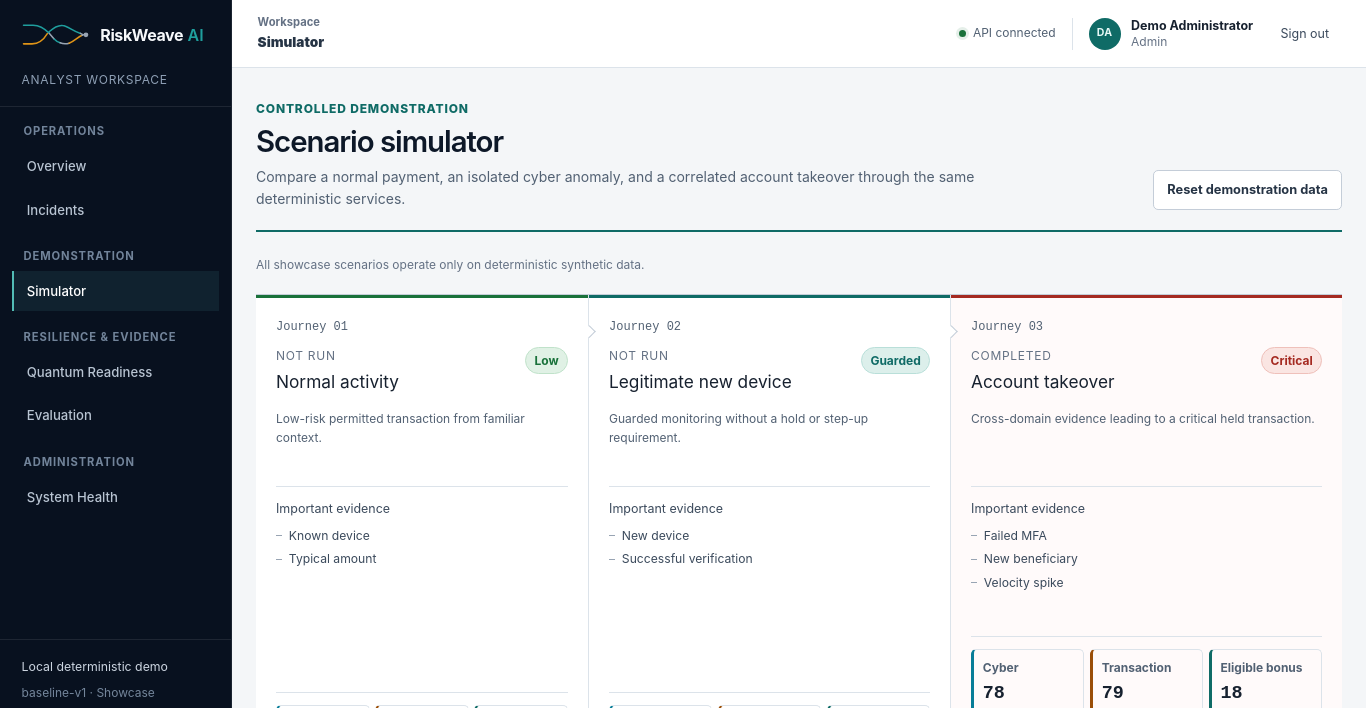
Test: RiskWeave authenticated product › traps keyboard focus inside confirmations and restores the invoking control
Click the button with aria-label "Restore exact baseline".
click(1248, 190)  # box [1153,170,1342,210]
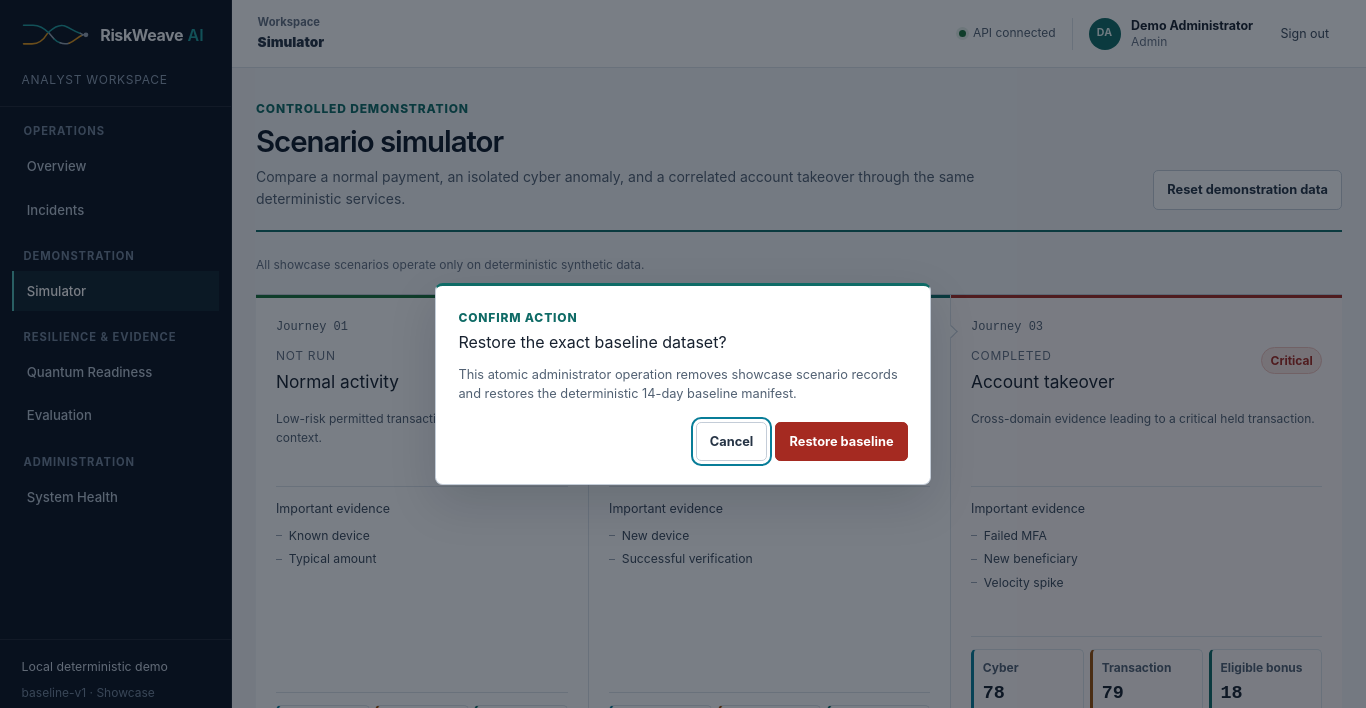
Press Shift+Tab
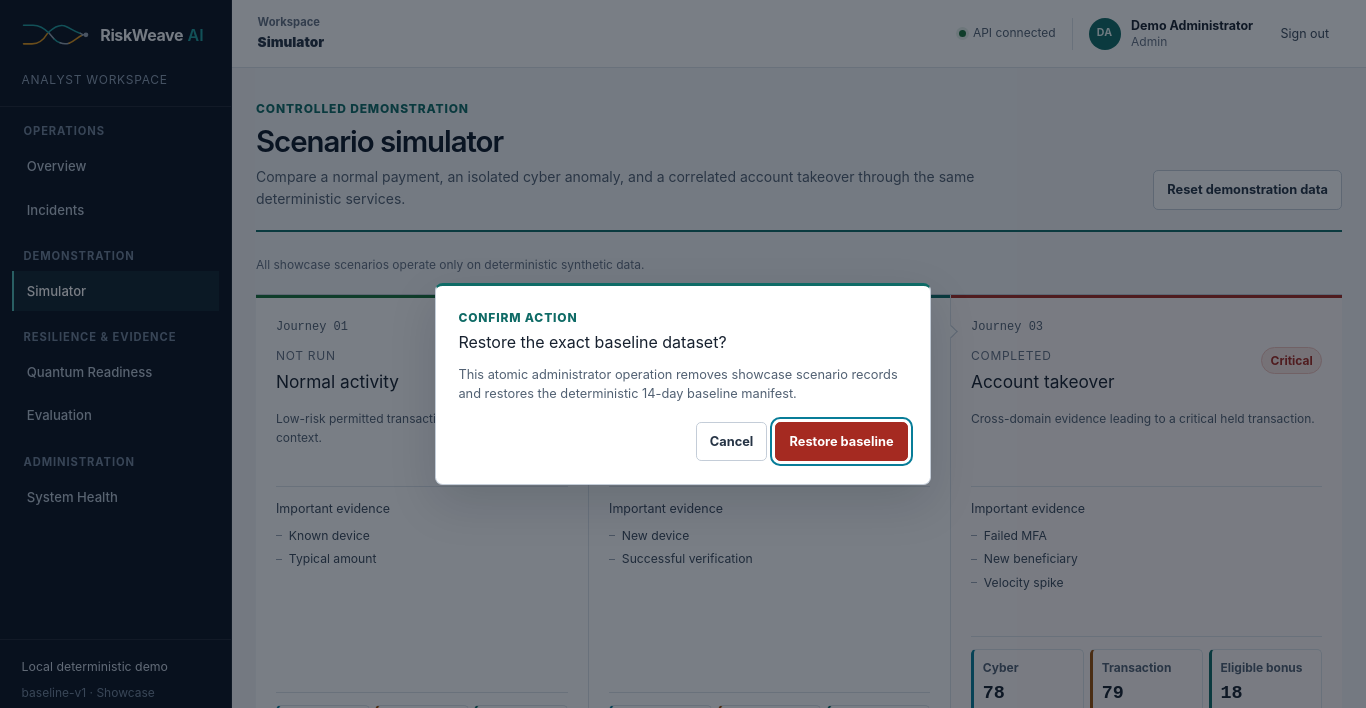
Press Tab
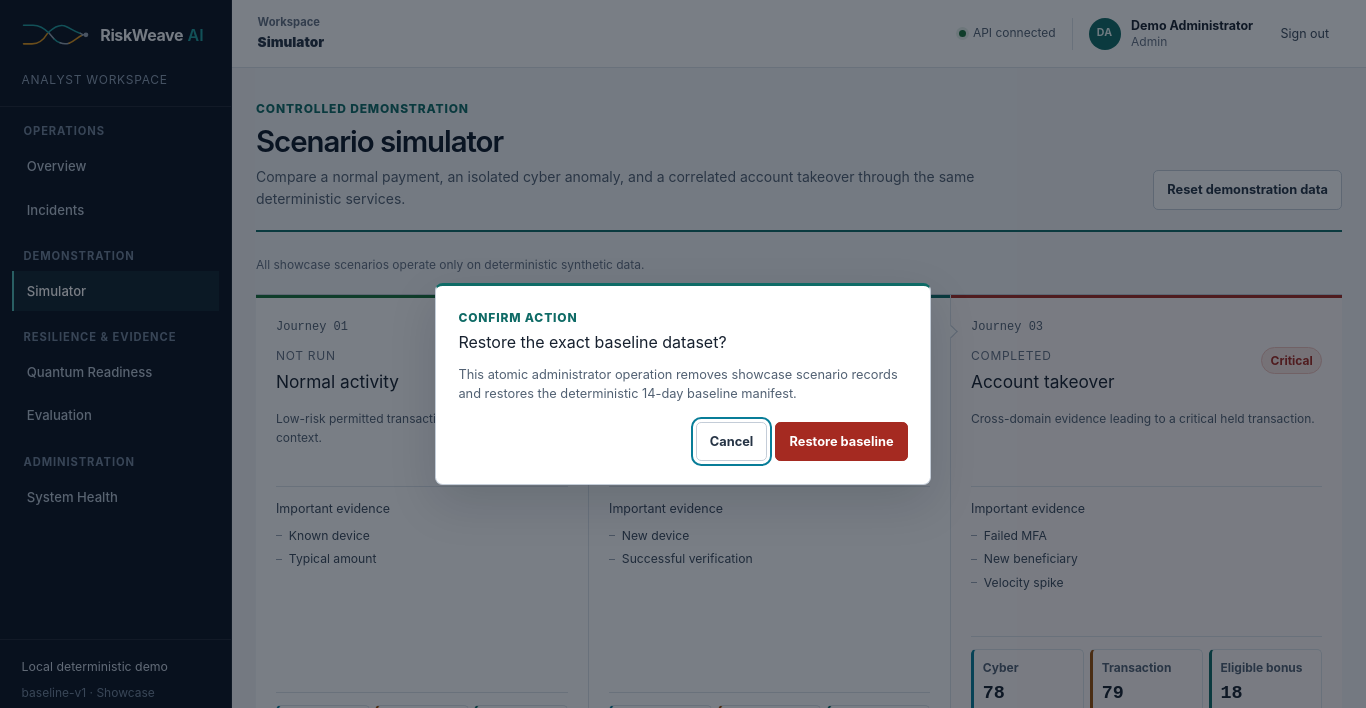
Press Escape
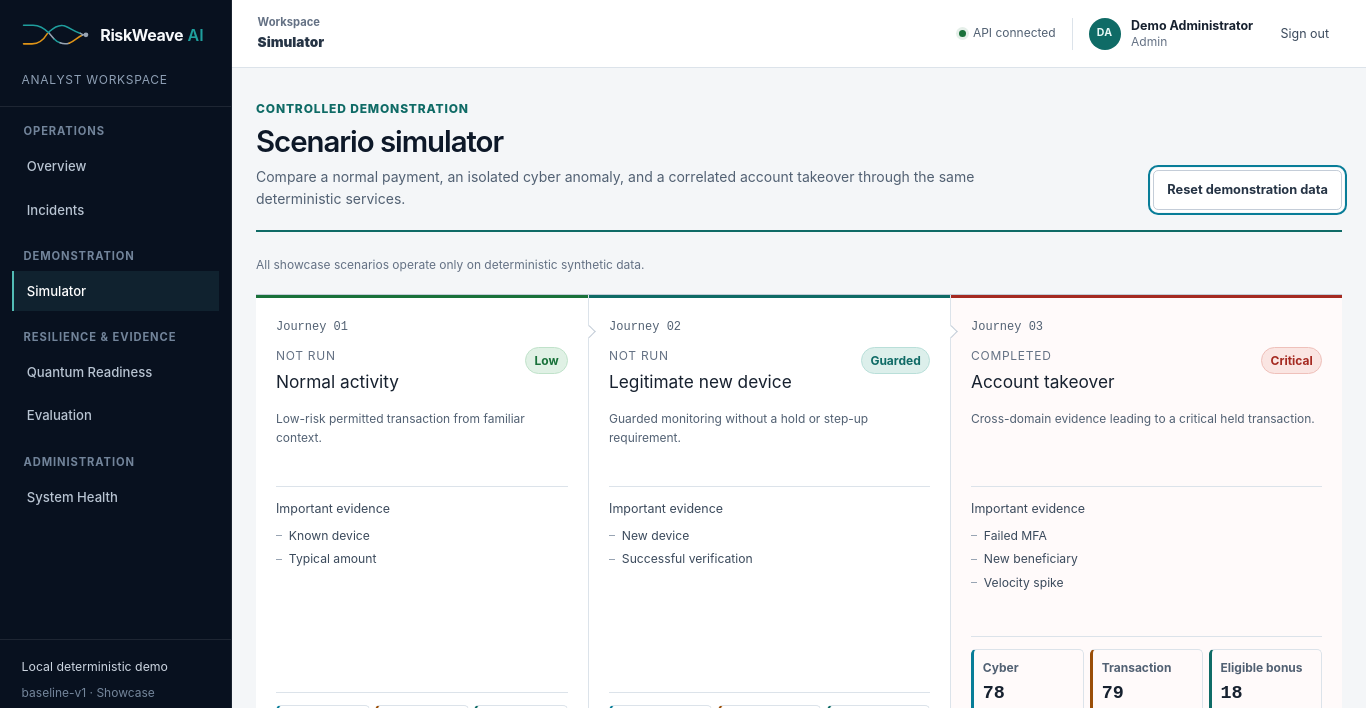
Result: the heading "Restore the exact baseline dataset?" is gone
